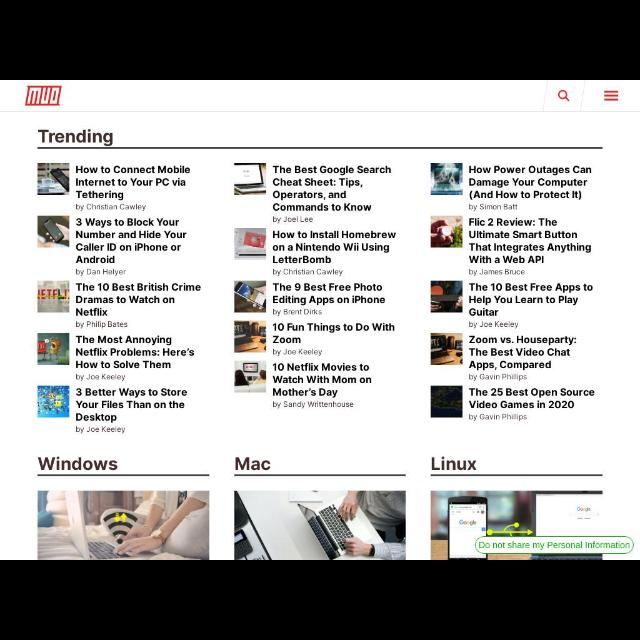button: (584, 82, 638, 112), (544, 82, 584, 110)
icon: (556, 90, 570, 104), (605, 90, 621, 102)
image: (431, 491, 603, 559), (38, 492, 210, 558), (236, 492, 404, 558), (36, 162, 70, 196), (431, 280, 463, 314), (432, 332, 464, 366), (235, 321, 267, 354), (235, 281, 268, 313), (431, 163, 463, 195), (38, 281, 70, 313), (38, 332, 70, 364), (234, 163, 266, 194), (235, 228, 268, 258), (432, 216, 462, 248), (430, 386, 462, 416), (38, 216, 68, 248), (236, 362, 266, 392), (38, 386, 68, 416), (26, 84, 62, 106)
text: (469, 216, 591, 264), (273, 164, 392, 212), (76, 217, 186, 266), (469, 164, 591, 202), (272, 230, 394, 266), (76, 164, 190, 202), (76, 282, 200, 316), (469, 282, 593, 316), (78, 333, 194, 369), (76, 387, 186, 423), (468, 334, 578, 370), (272, 362, 372, 398), (270, 319, 396, 346), (470, 387, 594, 409), (272, 282, 386, 304), (38, 128, 116, 146), (38, 456, 118, 472), (480, 542, 628, 548), (272, 401, 354, 411), (432, 454, 478, 471), (76, 202, 146, 212), (234, 455, 272, 473), (469, 372, 527, 383), (272, 269, 344, 277), (76, 318, 128, 329), (468, 320, 522, 330), (468, 202, 520, 212), (76, 268, 126, 278), (76, 372, 126, 382), (272, 308, 322, 318), (468, 413, 528, 421), (468, 268, 526, 276), (273, 348, 323, 357), (75, 426, 127, 434), (272, 215, 312, 222)
textbutton: (476, 538, 632, 554)
toolbar: (1, 80, 639, 114)
